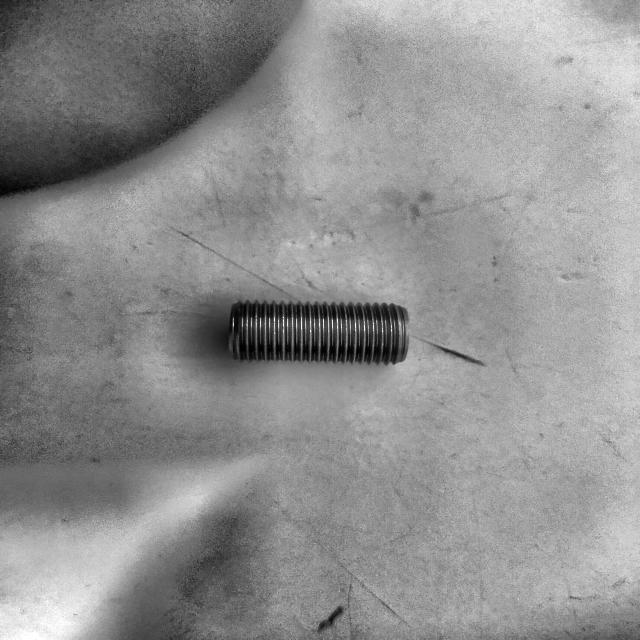Normal: (229, 299, 409, 367)
